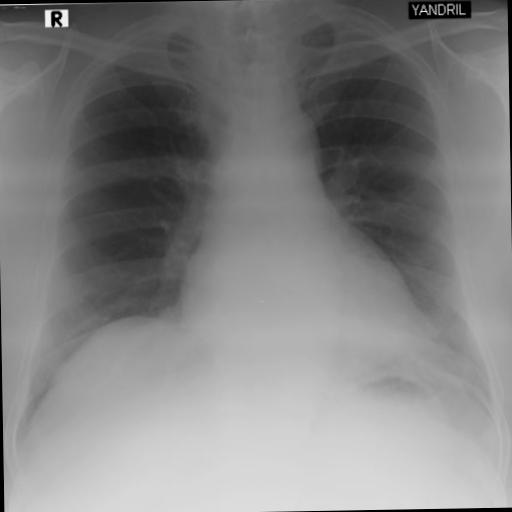kardiomegali: (3, 0, 512, 449)
